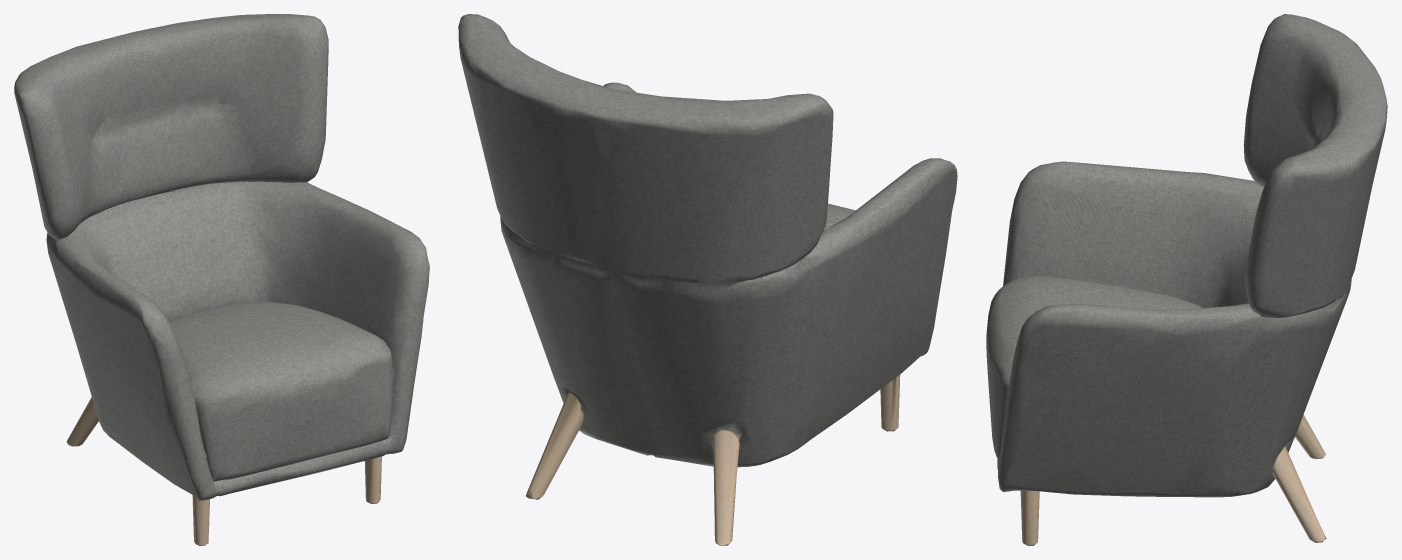
Rendered from 20 - OSKARSHAMN Wing chair - Tibbleby beigegrey.glb.
3 renders of one model, left to right at view 1: azimuth 30°, elevation 25°; view 2: azimuth 150°, elevation 25°; view 3: azimuth 270°, elevation 25°, orthographic. The views are drawn at different scales.
Parts seen in each view (by area): view 1: ProcessedMeshNode; view 2: ProcessedMeshNode; view 3: ProcessedMeshNode.
Part boxes in pixels (<box>): ProcessedMeshNode: <box>14,14,429,545</box>; ProcessedMeshNode: <box>458,14,957,545</box>; ProcessedMeshNode: <box>986,14,1387,545</box>.
Size of the model in its own units: 0.8349 by 0.9949 by 0.8795.
1 material, 1 textured.
